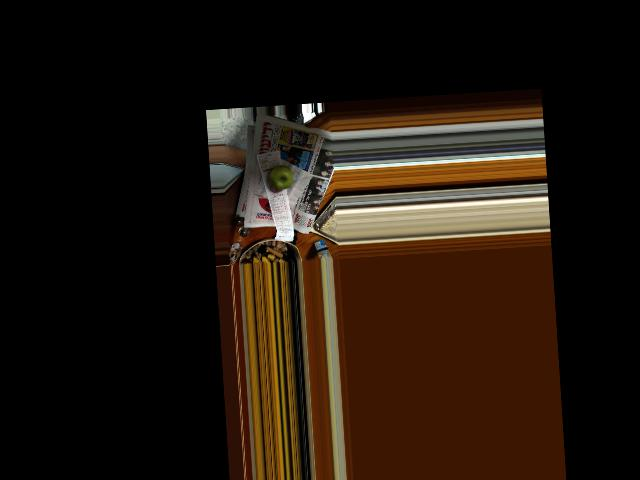apple: (267, 160, 295, 192)
